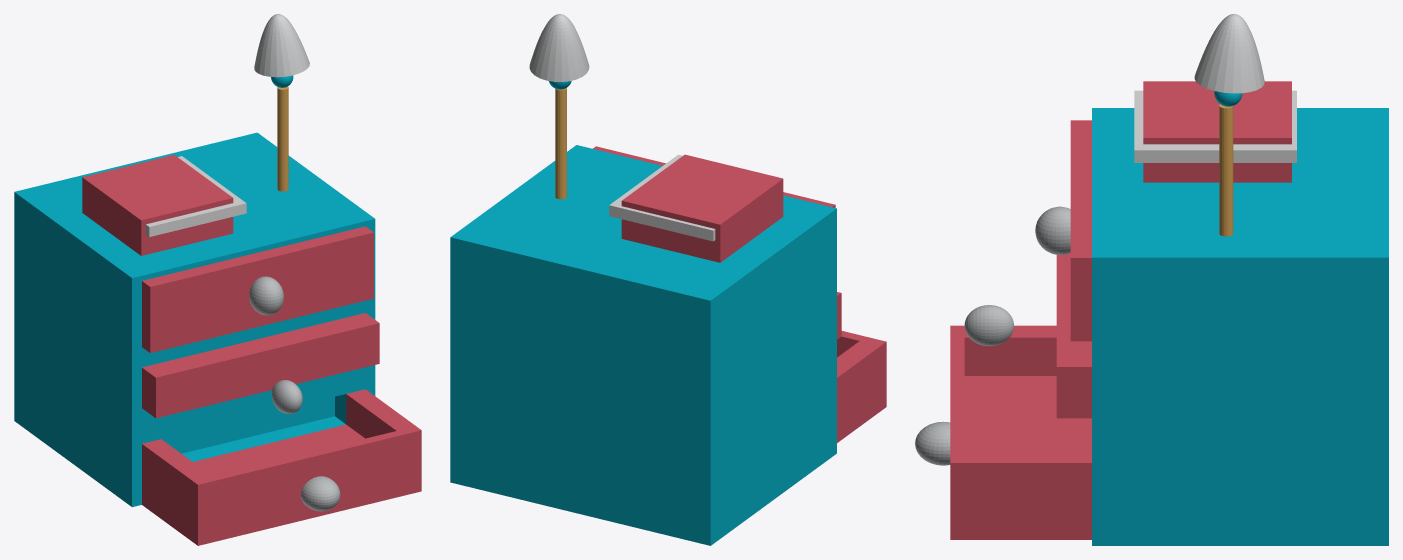
Rendered from Fabulous Sango.glb.
3 views of the same model, side by side, from view 1: azimuth 30°, elevation 25°; view 2: azimuth 150°, elevation 25°; view 3: azimuth 270°, elevation 25° (orthographic). The views are drawn at different scales.
Parts seen in each view (by area): view 1: Mesh_Mesh_head_geo.001_lambert2SG.001; view 2: Mesh_Mesh_head_geo.001_lambert2SG.001; view 3: Mesh_Mesh_head_geo.001_lambert2SG.001.
Part boxes in pixels (bbox=[...]): Mesh_Mesh_head_geo.001_lambert2SG.001: bbox=[14, 14, 421, 545]; Mesh_Mesh_head_geo.001_lambert2SG.001: bbox=[450, 14, 886, 545]; Mesh_Mesh_head_geo.001_lambert2SG.001: bbox=[915, 14, 1388, 545].
Size of the model in its own units: 50 by 78.95 by 67.
